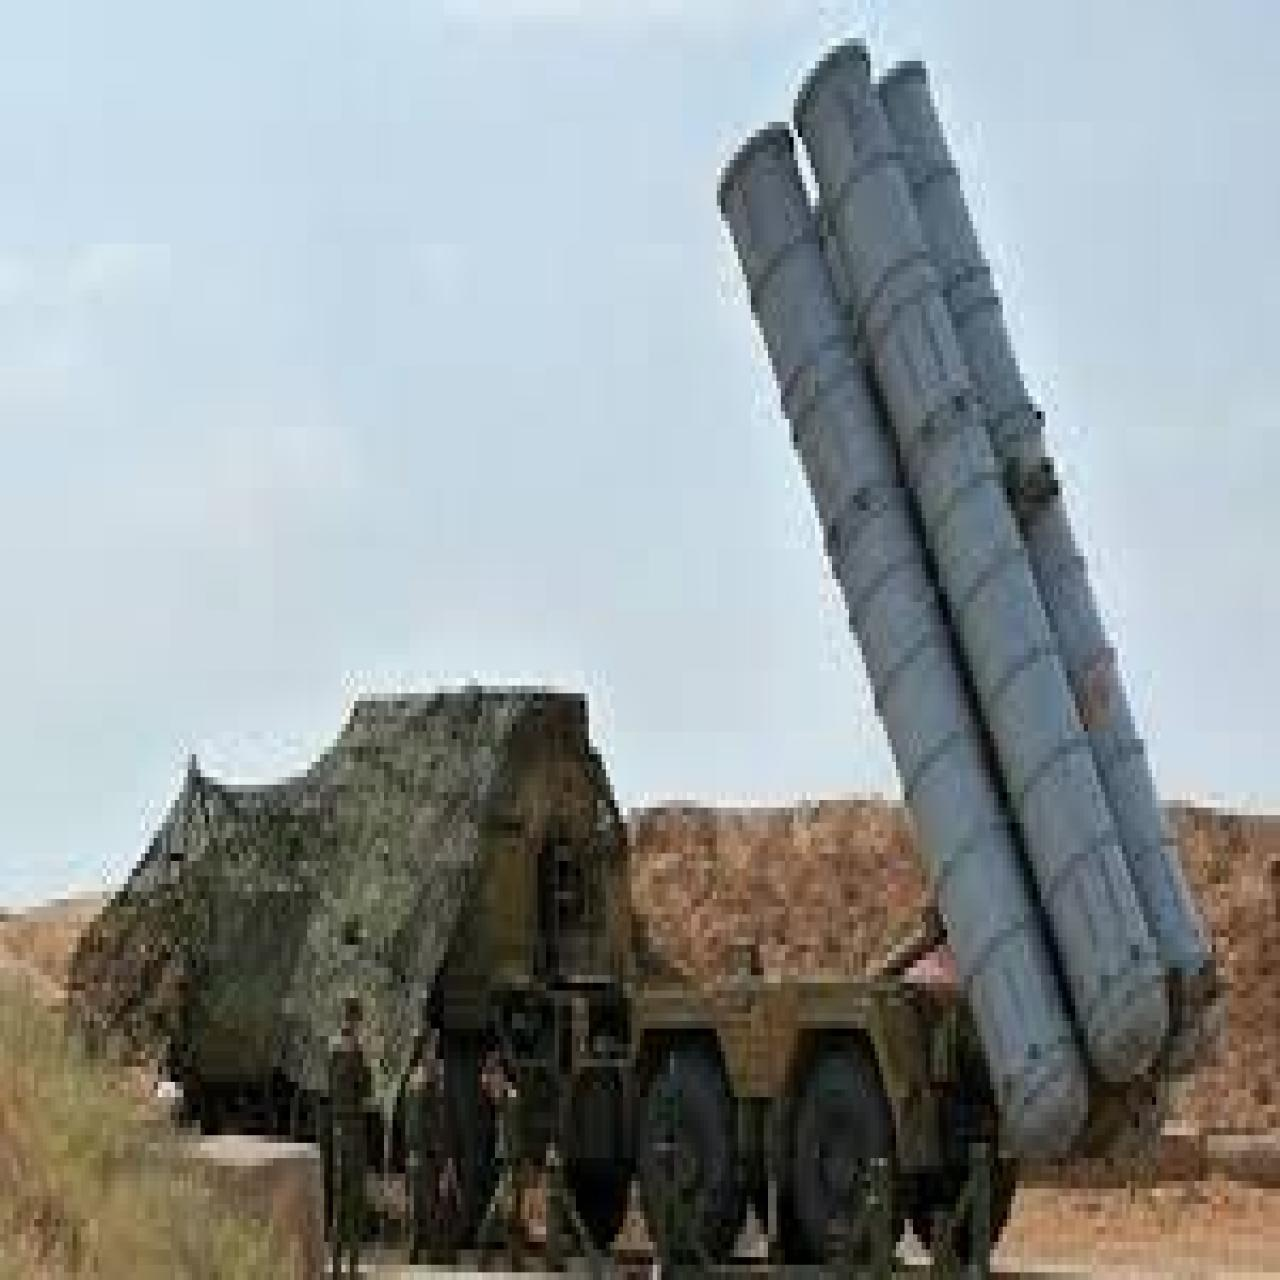MIL_Veh: (189, 42, 1214, 1280)
